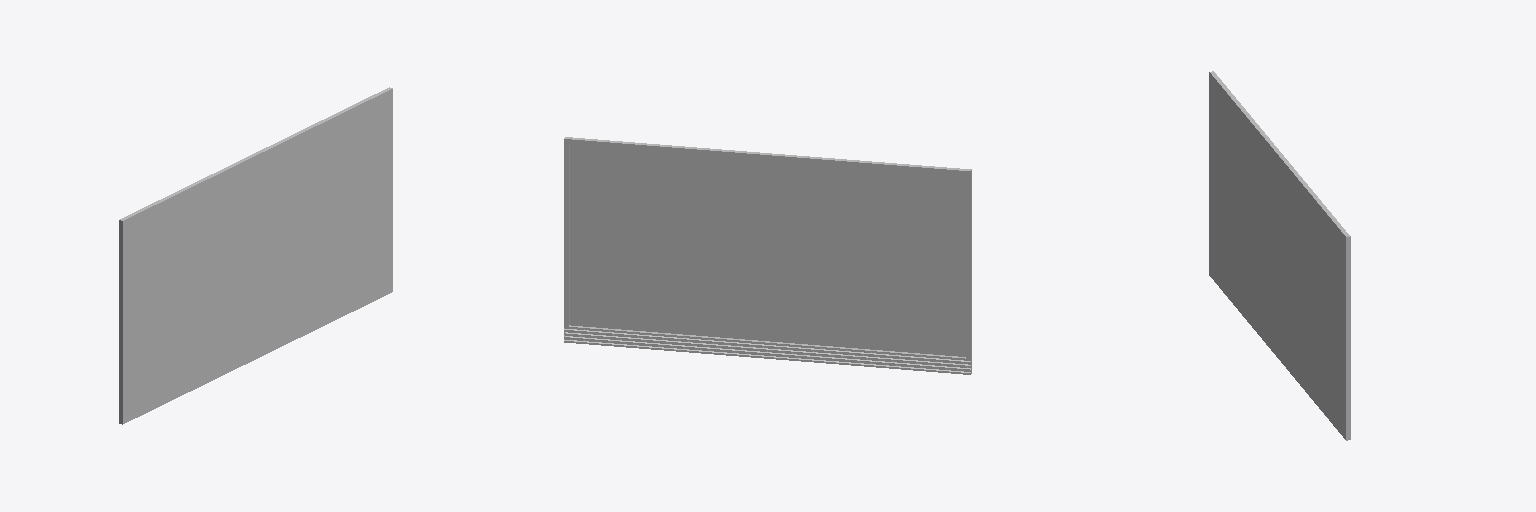
3 renders of one model, left to right at view 1: azimuth 30°, elevation 25°; view 2: azimuth 150°, elevation 25°; view 3: azimuth 270°, elevation 25°, orthographic.
Parts seen in each view (by area): view 1: Billboard_01:Box02; view 2: Billboard_01:Box02; view 3: Billboard_01:Box02.
Part boxes in pixels (x1,y1,x2,y2): Billboard_01:Box02: (119,87,392,424); Billboard_01:Box02: (564,137,971,374); Billboard_01:Box02: (1209,71,1350,440).
Bounding box in the file's own units: 28.64 × 16.41 × 10.3.